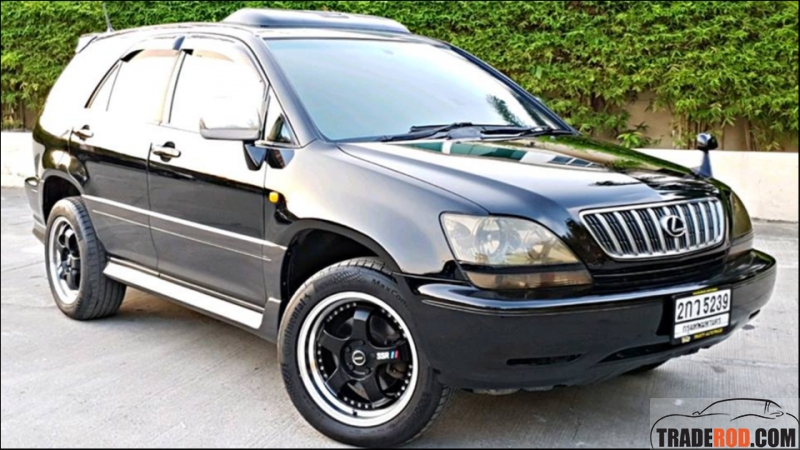pickup: (30, 10, 776, 447)
